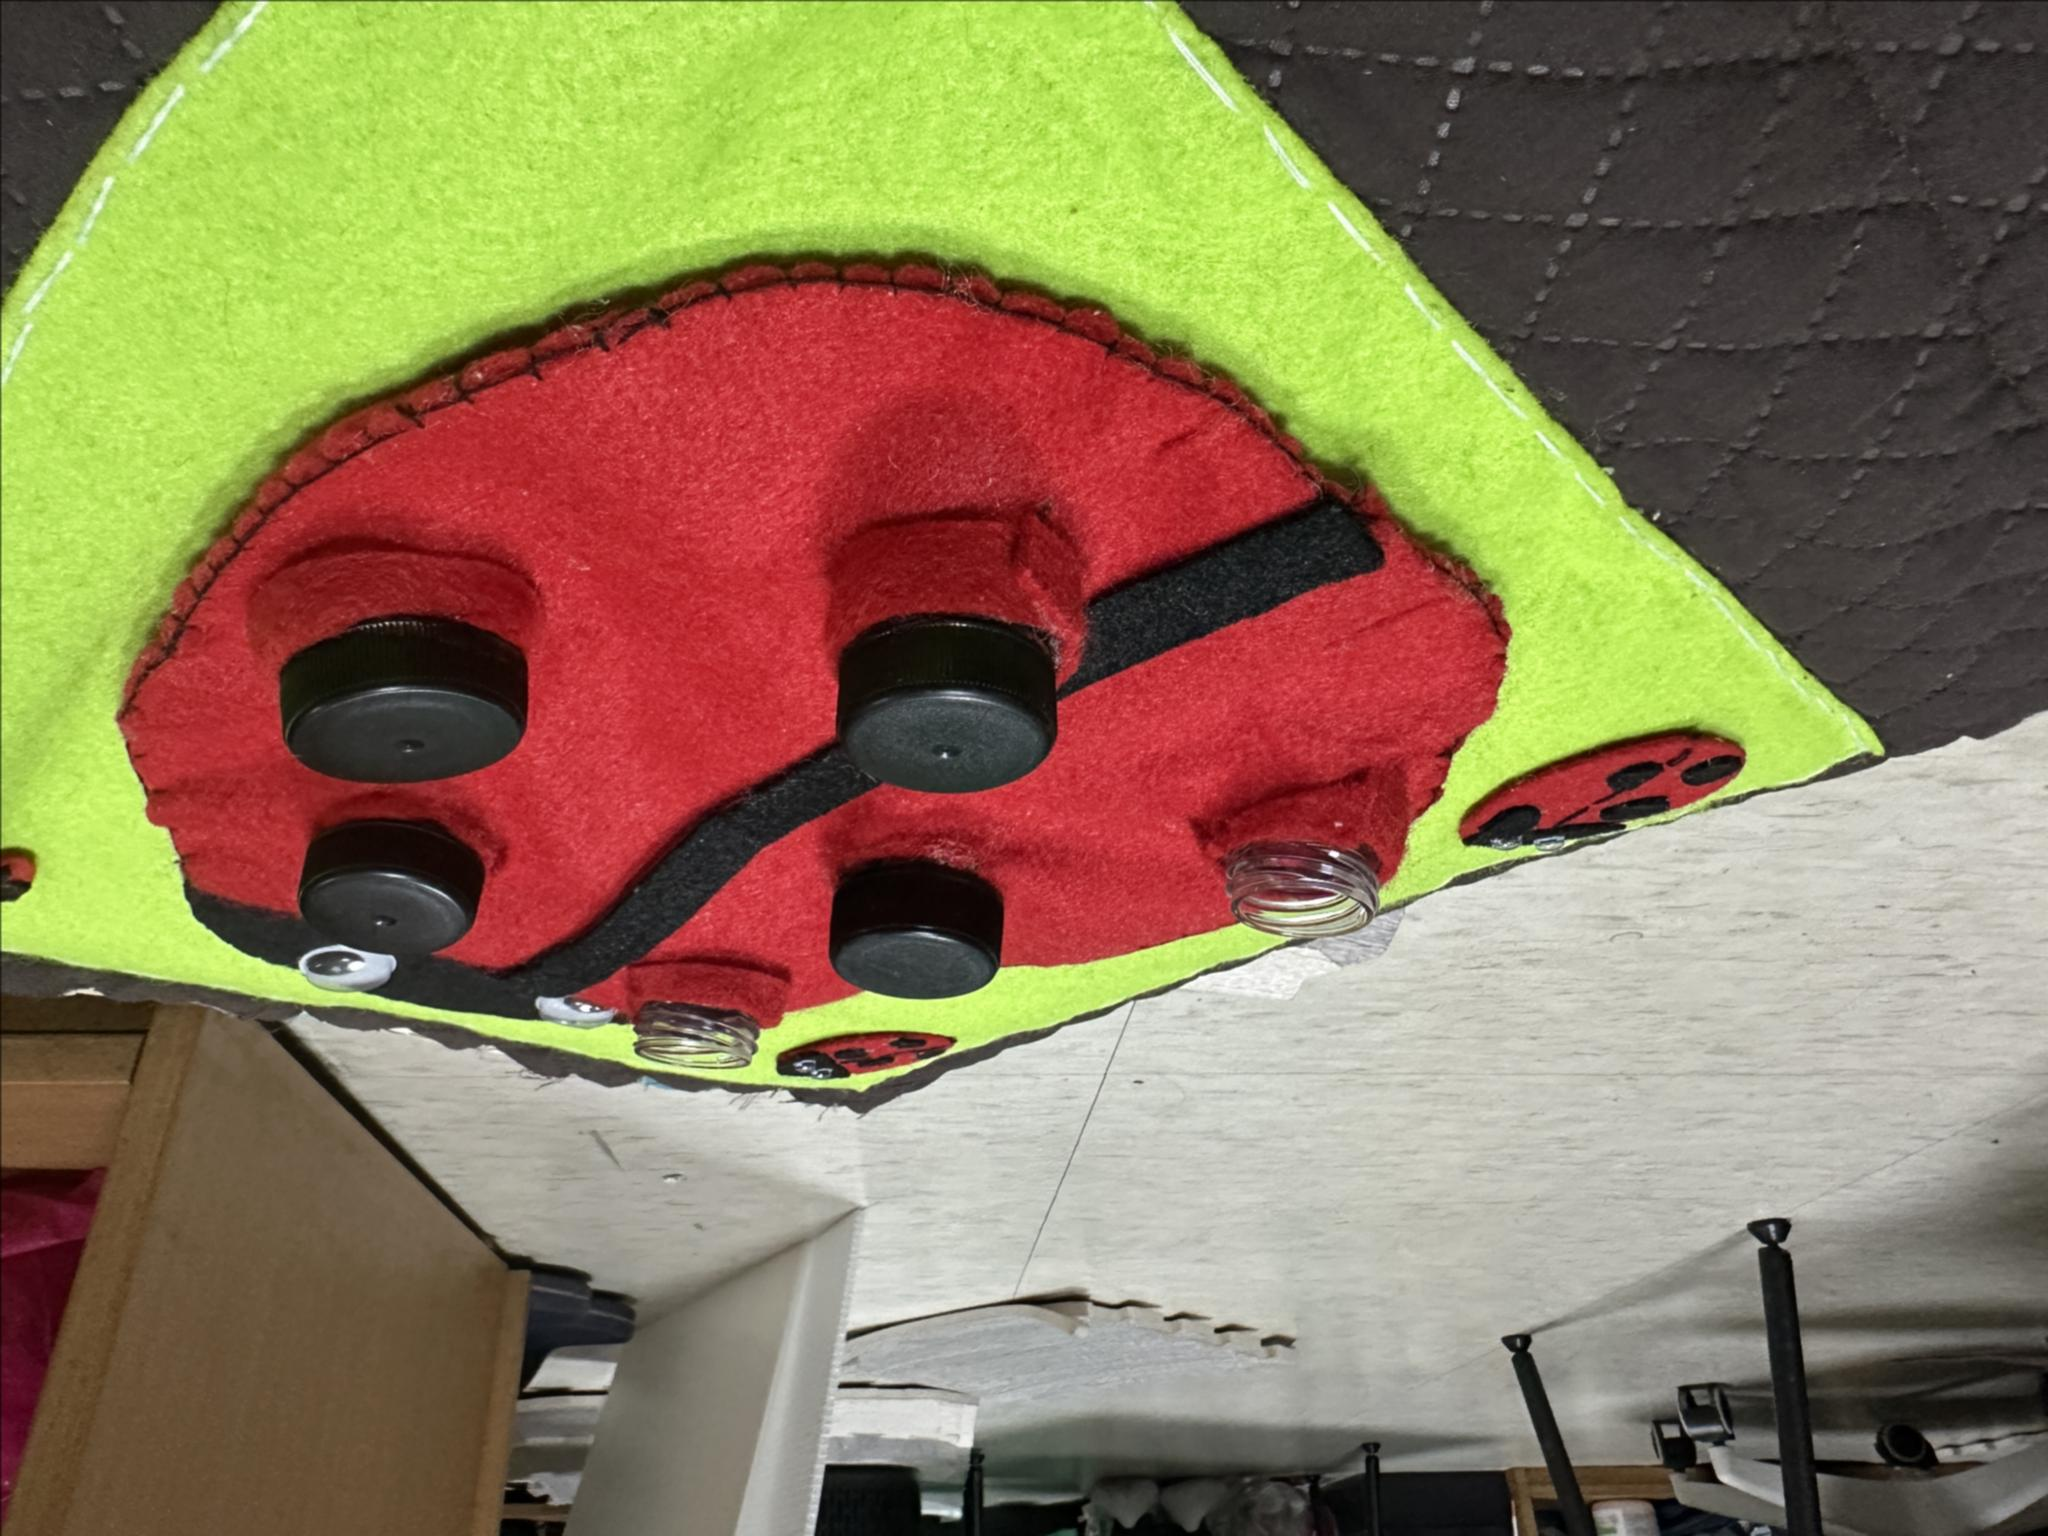cap_ok: (755, 515, 1111, 803), (244, 542, 560, 787), (795, 813, 1042, 1018), (277, 800, 522, 975)
